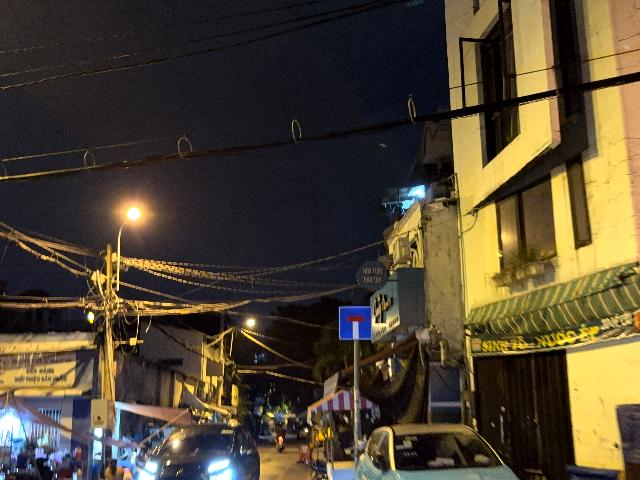duong-cut: (339, 306, 372, 341)
